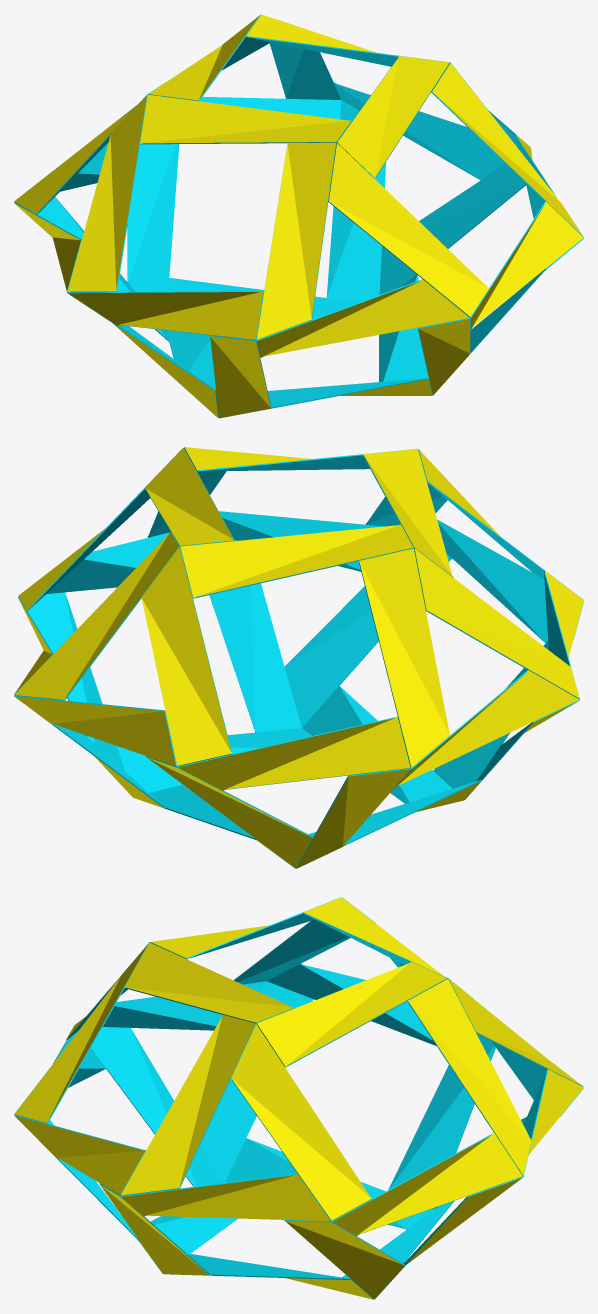
Rendered from SquareGyrobicupola.glb.
3 renders of one model, top to bottom at view 1: azimuth 30°, elevation 25°; view 2: azimuth 150°, elevation 25°; view 3: azimuth 270°, elevation 25°, orthographic. The views are drawn at different scales.
Parts seen in each view (by area): view 1: root; view 2: root; view 3: root.
Part boxes in pixels (bbox=[...]): root: bbox=[14, 14, 583, 418]; root: bbox=[14, 447, 583, 868]; root: bbox=[14, 897, 583, 1299].
Bounding box in the file's own units: 10.05 × 5.5 × 10.05.
